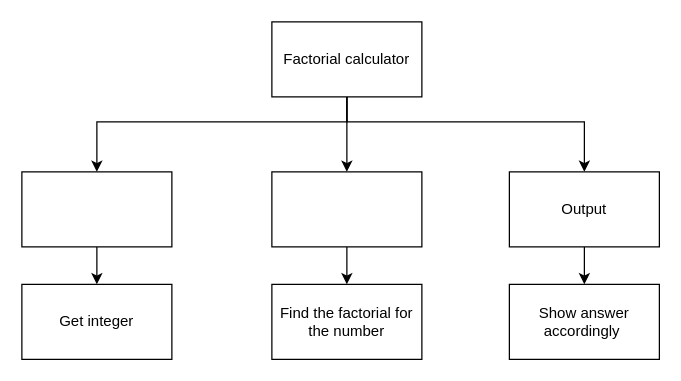
The diagram is 681 pixels wide and 381 high, and some of its shapes have lost their labels. Here are the shapes that lost their labels. From the top down, the centre of each, then its label:
At [96,209]: "Input".
At [346,209]: "Process".
